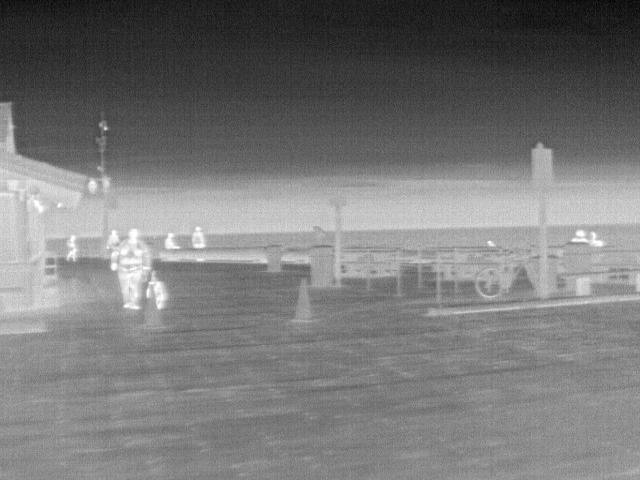dog: (144, 278, 166, 312)
person: (109, 227, 154, 311), (188, 224, 208, 249), (64, 234, 79, 262), (161, 230, 180, 248), (570, 228, 589, 246), (587, 227, 605, 246), (105, 227, 122, 247)
